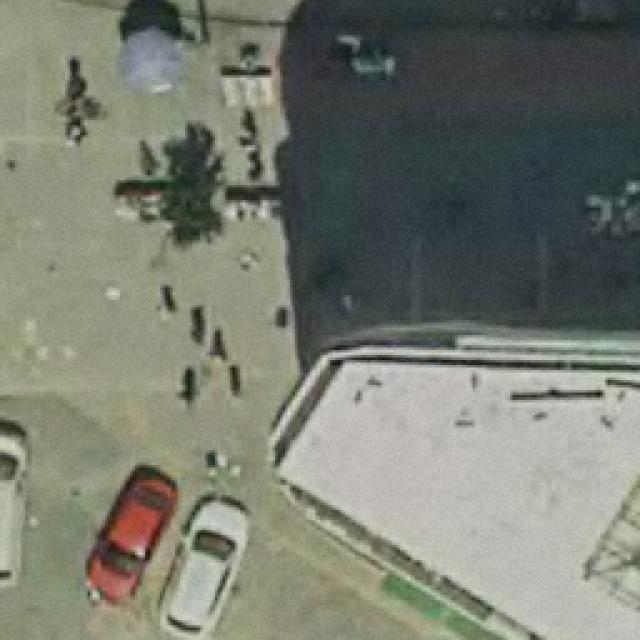vendedor_ambulante: (116, 18, 190, 100)
